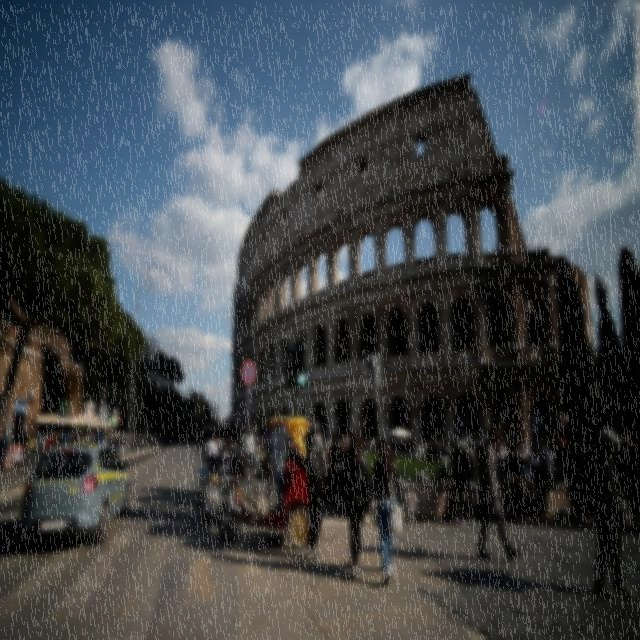pessoa: (492, 430, 594, 524), (208, 538, 385, 590), (590, 425, 638, 606), (476, 422, 523, 564), (368, 436, 405, 590), (337, 426, 372, 582), (302, 418, 323, 562), (362, 432, 452, 461), (204, 428, 246, 488), (620, 426, 640, 532), (102, 427, 167, 457), (462, 436, 477, 526), (265, 422, 281, 499), (273, 412, 290, 474), (54, 426, 102, 447), (339, 434, 351, 510), (462, 431, 490, 460), (325, 431, 343, 476), (10, 426, 30, 462), (0, 426, 11, 477), (318, 434, 331, 474), (28, 428, 40, 470), (35, 423, 50, 455), (242, 424, 256, 455), (284, 438, 302, 462), (260, 420, 268, 458), (44, 428, 56, 453), (455, 430, 466, 448), (253, 425, 261, 443)
